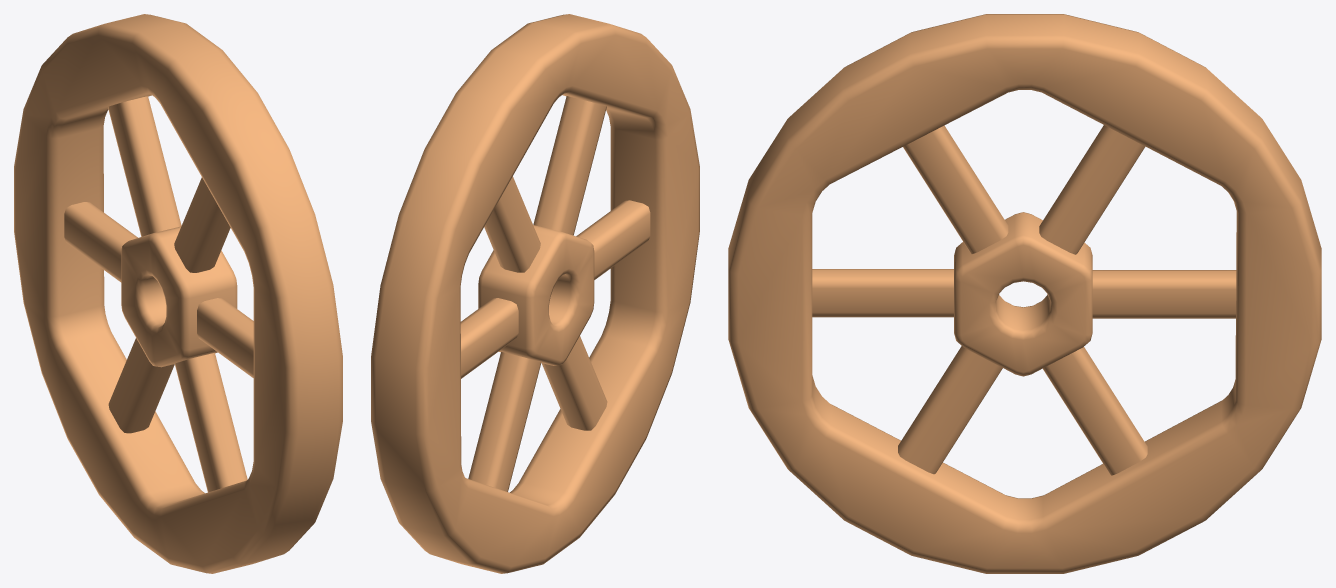
Rendered from Wheel.fbx.
The picture shows the model from 3 angles, left to right: view 1: azimuth 30°, elevation 25°; view 2: azimuth 150°, elevation 25°; view 3: azimuth 270°, elevation 25°; orthographic projection. The views are drawn at different scales.
Parts seen in each view (by area): view 1: Wheel; view 2: Wheel; view 3: Wheel.
Part boxes in pixels (x1,y1,x2,y2): Wheel: (14,14,342,573); Wheel: (371,14,699,573); Wheel: (728,14,1321,573).
Size of the model in its own units: 145 by 1248 by 1248.
